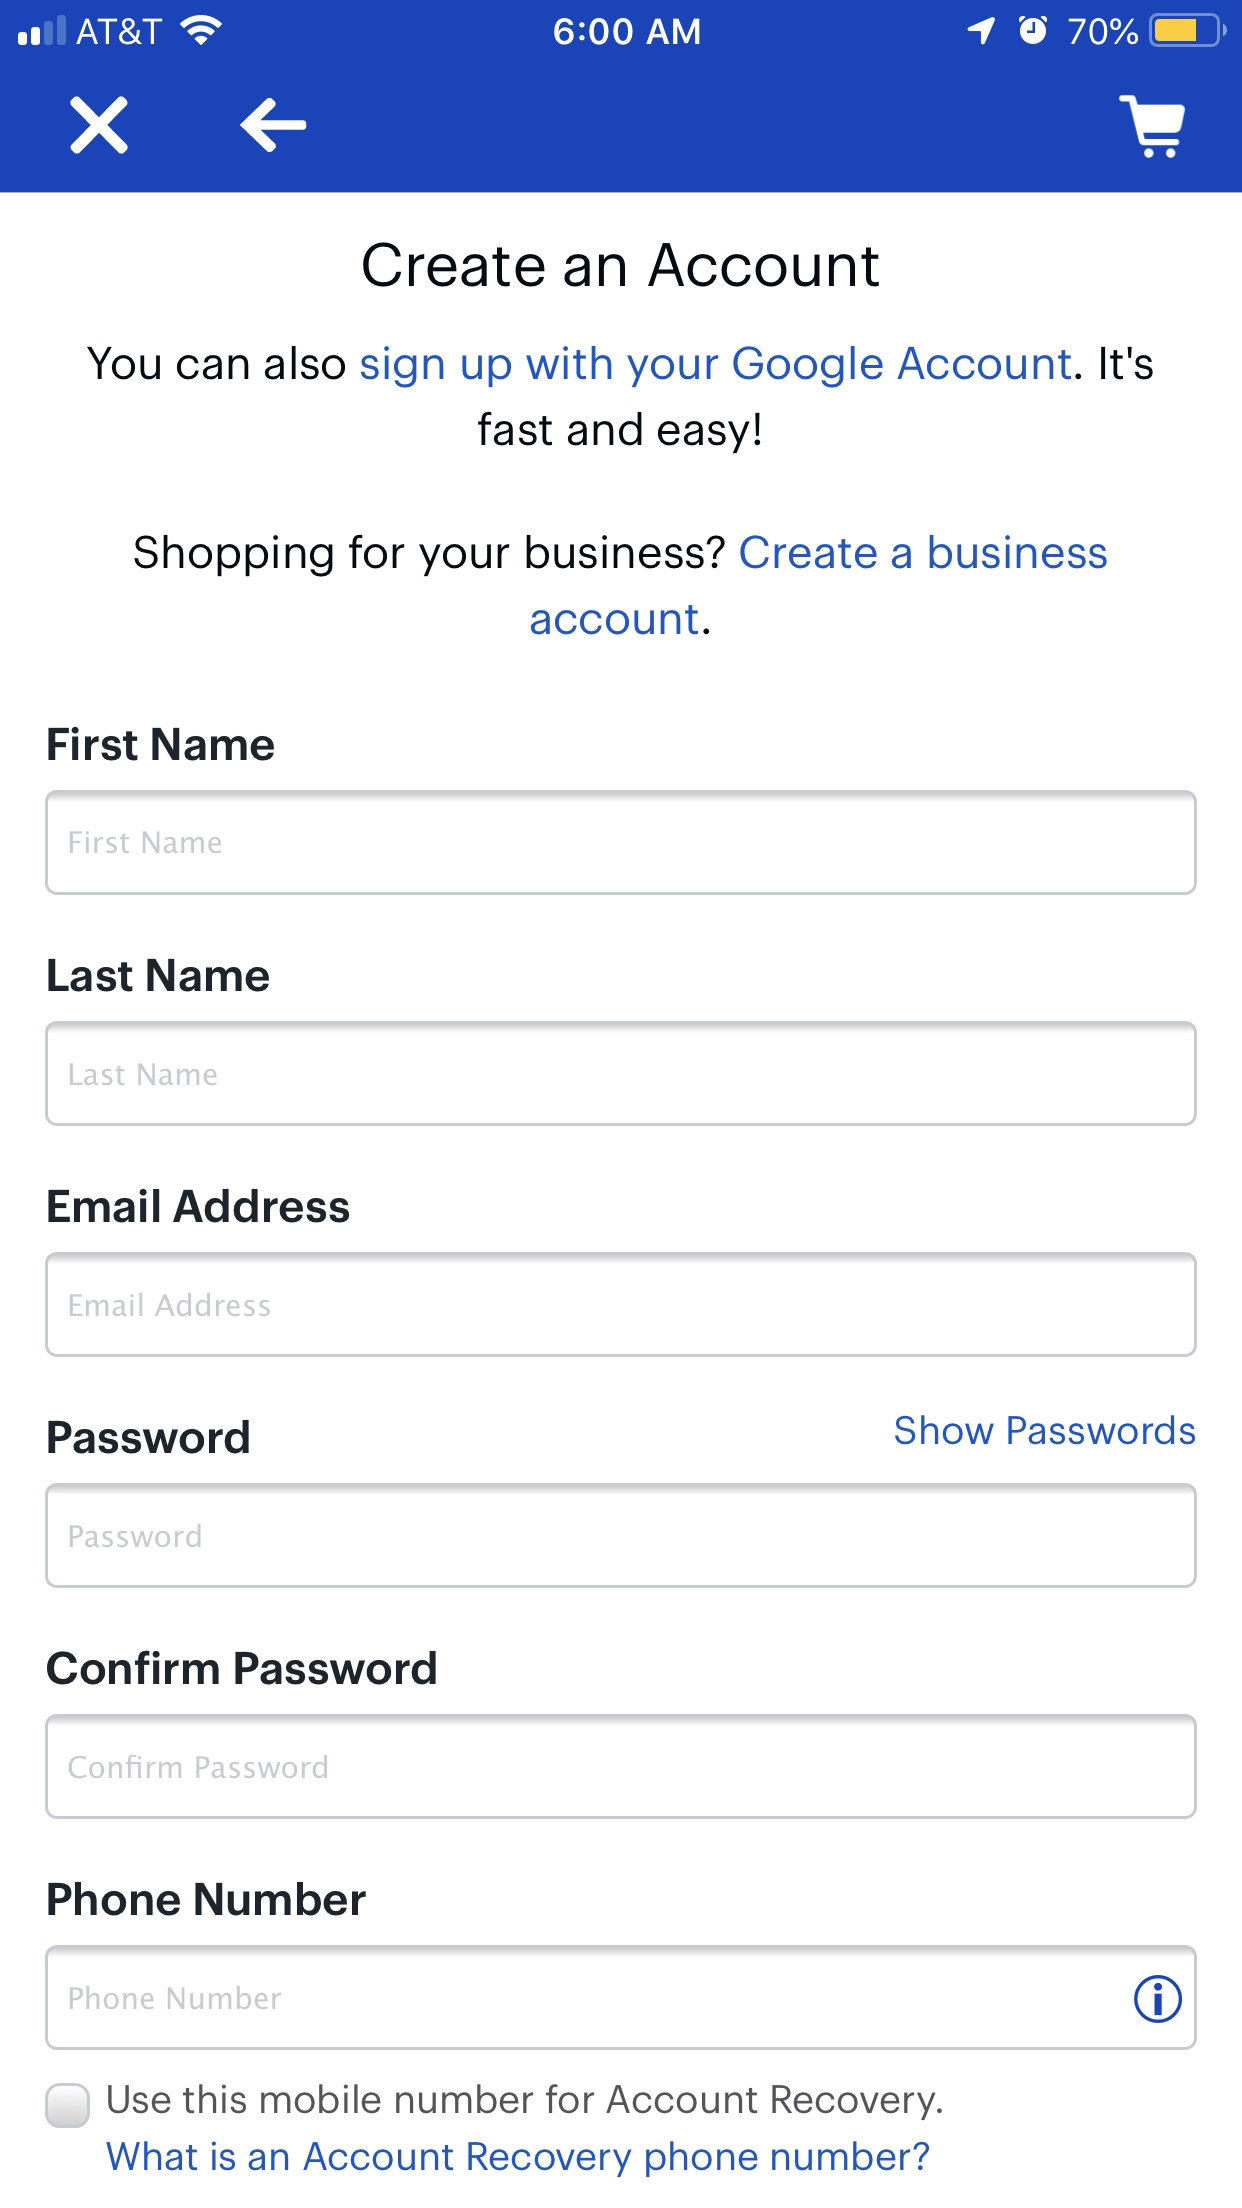CheckedTextView: (45, 2084, 942, 2178)
EditText: (45, 1714, 1197, 1820), (45, 1483, 1197, 1589), (45, 1021, 1197, 1127), (45, 790, 1197, 896), (45, 1946, 1197, 2050), (45, 1253, 1197, 1357)
Icon: (1118, 96, 1186, 161), (240, 99, 308, 155), (70, 96, 130, 156), (1133, 1974, 1181, 2023)
Text: (88, 346, 1154, 455), (133, 534, 1107, 635), (106, 2084, 942, 2178), (362, 243, 880, 288), (47, 1650, 437, 1686), (49, 1880, 369, 1917), (49, 1189, 350, 1224), (895, 1415, 1195, 1447), (49, 726, 274, 761), (49, 958, 270, 993), (49, 1419, 250, 1454), (70, 1755, 329, 1779), (70, 1987, 282, 2009), (70, 1294, 271, 1316), (70, 831, 221, 855), (70, 1063, 218, 1087), (70, 1524, 202, 1548)
UpperTaskBar: (2, 2, 1242, 50)
